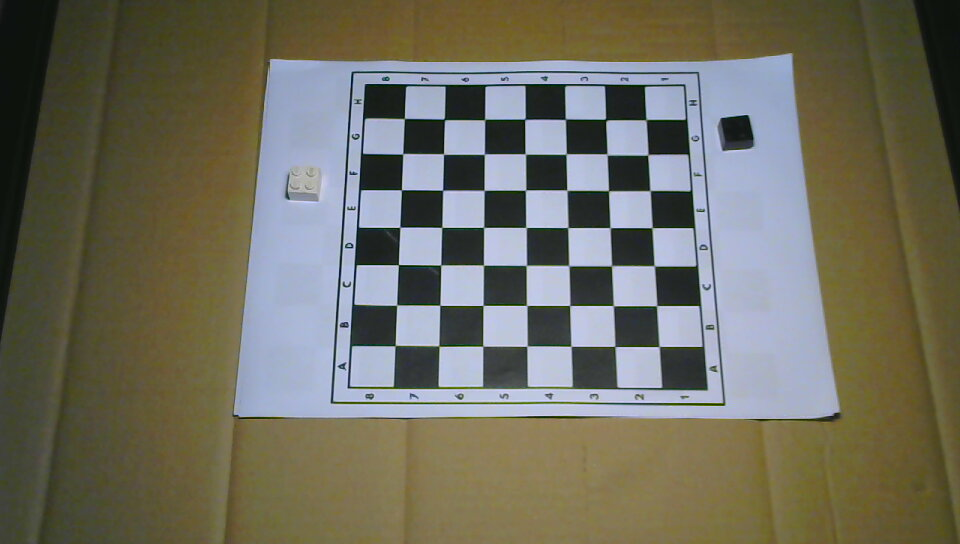bp: (717, 114, 755, 152)
wp: (286, 164, 323, 202)
